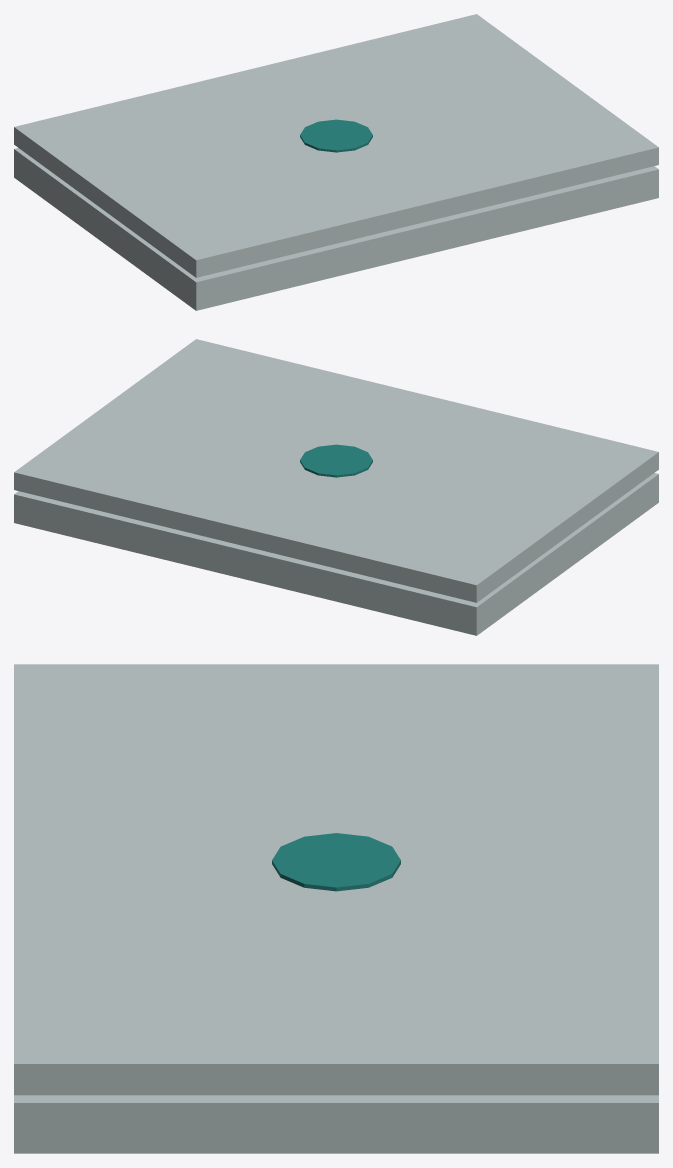
File: laptop.glb
The picture shows the model from 3 angles, top to bottom: view 1: azimuth 30°, elevation 25°; view 2: azimuth 150°, elevation 25°; view 3: azimuth 270°, elevation 25°; orthographic projection. The views are drawn at different scales.
Visible parts, largest first — view 1: lid_shell, base, logo; view 2: lid_shell, base, logo; view 3: lid_shell, base, logo.
Part boxes in pixels (x1,y1,x2,y2): lid_shell: (14,14,658,277); base: (14,148,658,310); logo: (300,119,372,152); lid_shell: (14,339,658,602); base: (14,473,658,635); logo: (300,444,372,477); lid_shell: (14,664,658,1095); base: (14,1095,658,1153); logo: (272,833,400,891).
Bounding box in the file's own units: 0.44 × 0.048 × 0.3.
